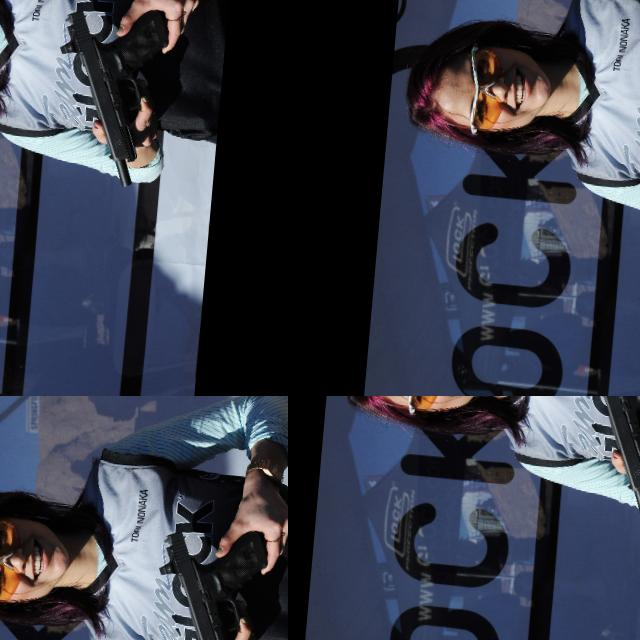handgun: (0, 396, 288, 640), (565, 396, 640, 519), (0, 71, 39, 220), (414, 304, 476, 394)
